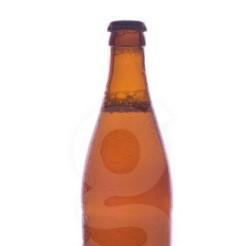beer: (79, 19, 175, 246)
